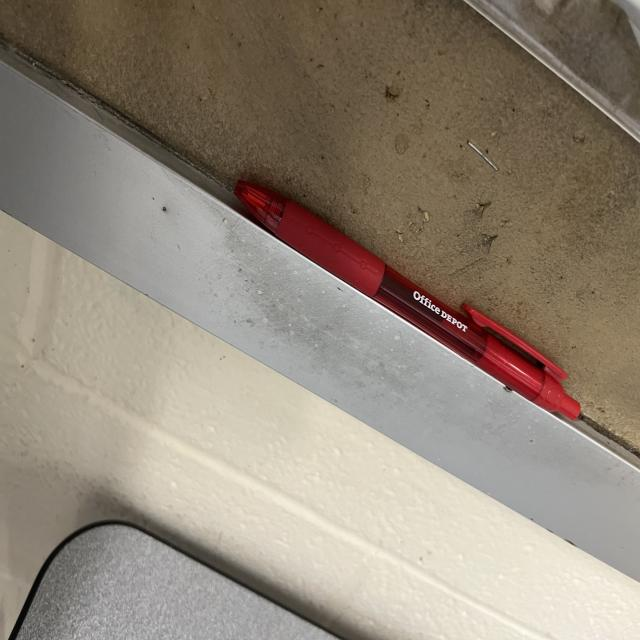pen: (232, 176, 582, 421)
